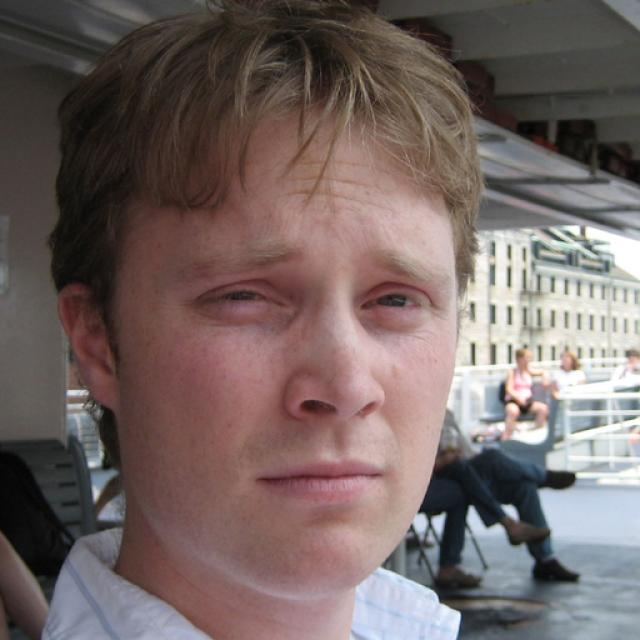Wrinkle: (290, 184, 391, 211), (290, 170, 384, 189), (295, 152, 380, 168)
